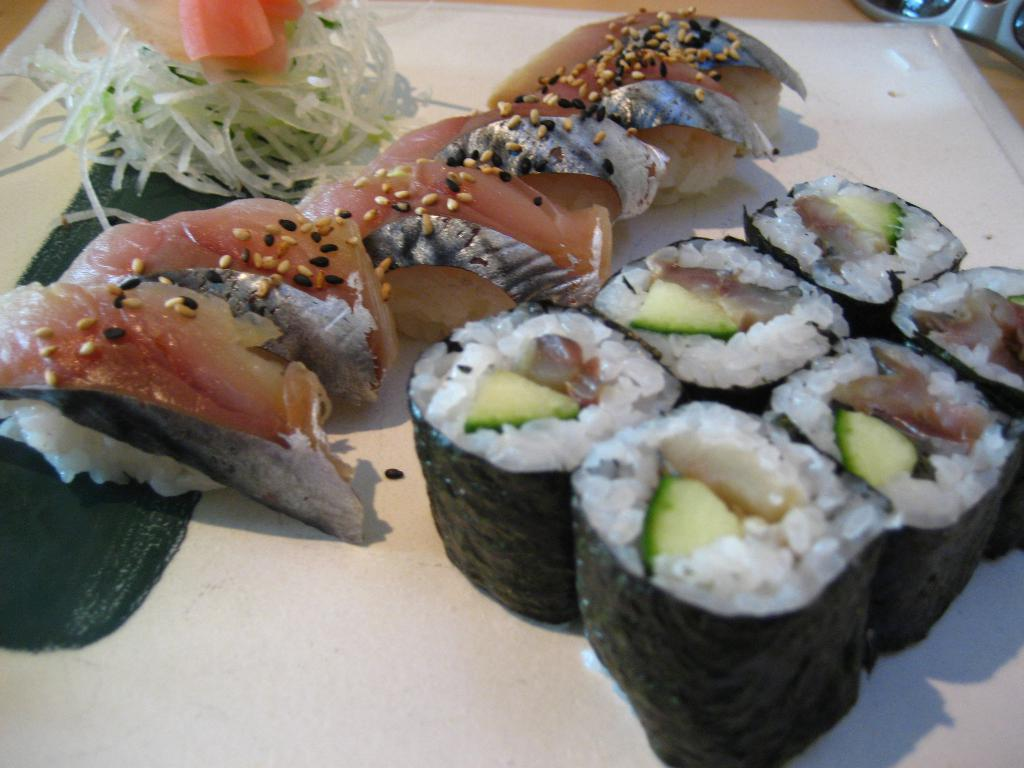sushi: (0, 11, 1023, 767), (577, 413, 902, 758)
